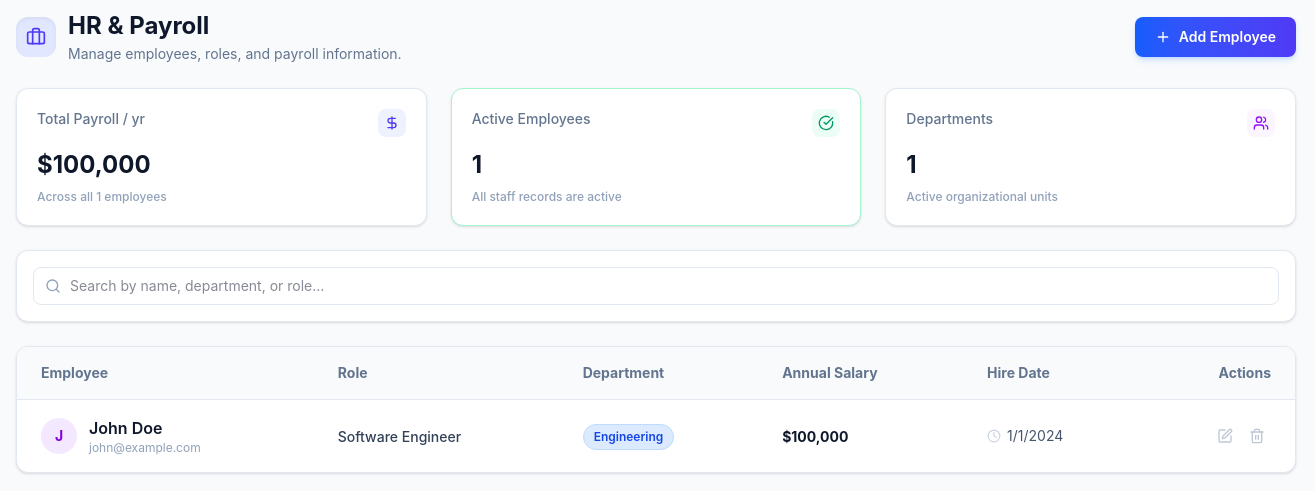
Scenario: HR Component › filters employees by search term
Expected: the text "John Doe" is shown, [89, 418, 162, 438]
Type "Jane" into the field with placeholder "Search by name, department, or role..." at [656, 286], box [33, 267, 1279, 305]
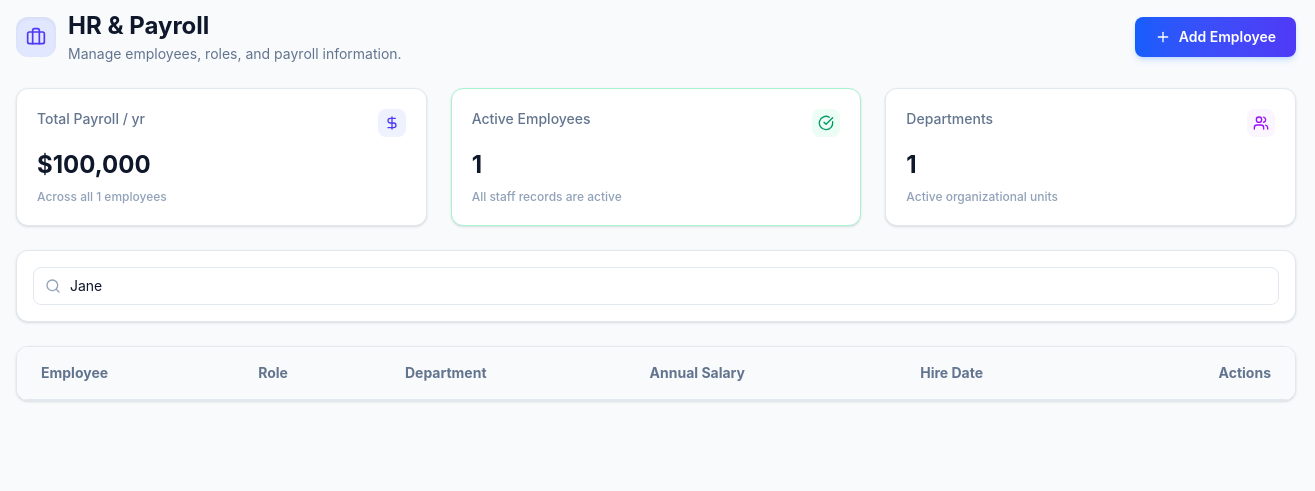
Now the text "John Doe" is gone
